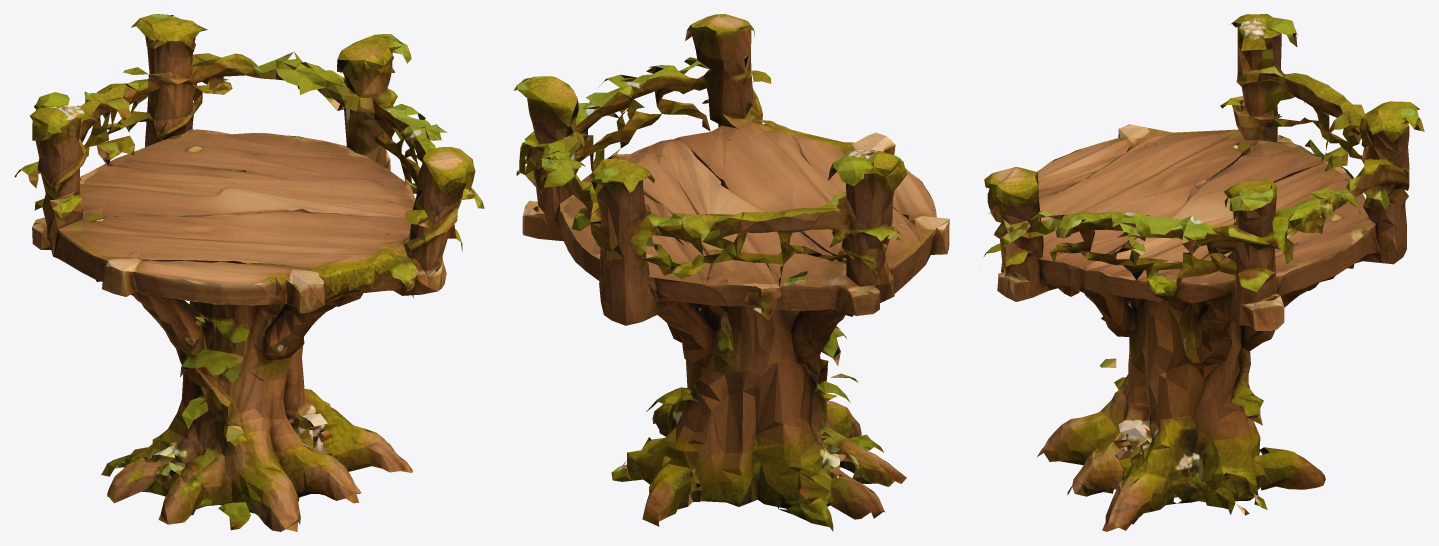
Rendered from fairy_dragonfly_dock_1117.glb.
3 renders of one model, left to right at view 1: azimuth 30°, elevation 25°; view 2: azimuth 150°, elevation 25°; view 3: azimuth 270°, elevation 25°, orthographic. The views are drawn at different scales.
Visible parts, largest first — view 1: world; view 2: world; view 3: world.
Boxes of the visible parts, left/top/right/bottom form: world: left=14, top=14, right=484, bottom=531; world: left=513, top=14, right=949, bottom=531; world: left=984, top=14, right=1424, bottom=531.
Size of the model in its own units: 1.03 by 1 by 1.07.
Materials: 1 (1 with a texture image).
